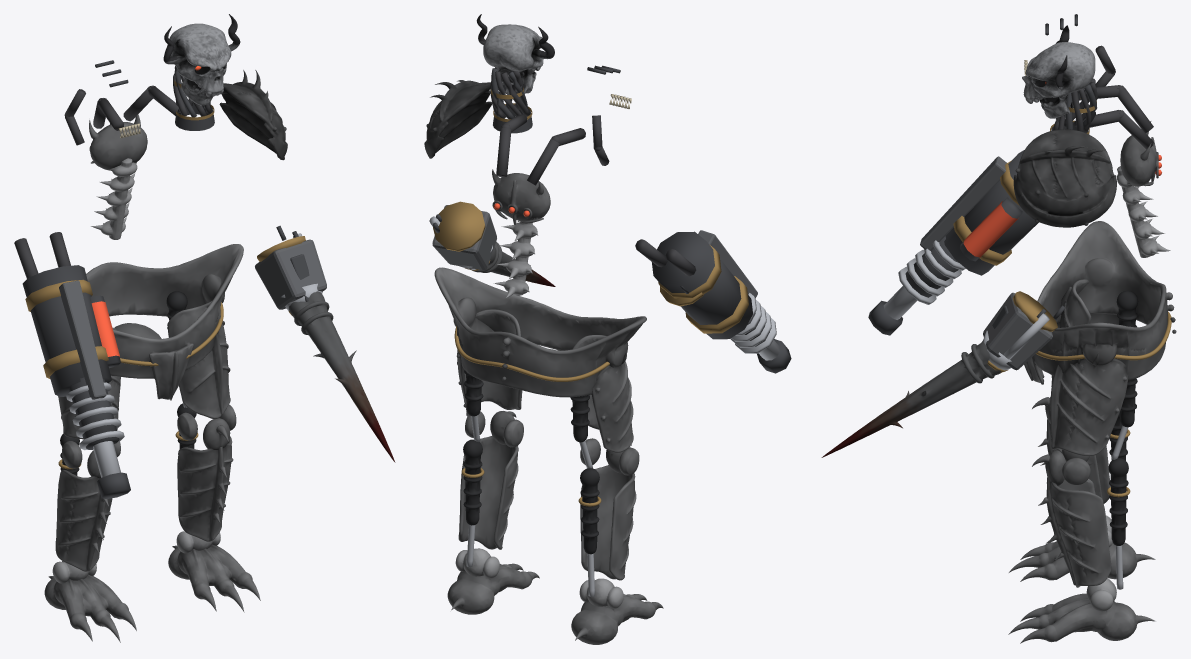
Rendered from twinhead-parts.glb.
The picture shows the model from 3 angles, left to right: view 1: azimuth 30°, elevation 25°; view 2: azimuth 150°, elevation 25°; view 3: azimuth 270°, elevation 25°; orthographic projection. The views are drawn at different scales.
Visible parts, largest first — view 1: forearm.r|cannon, pelvis|girdle, shin.l|greave, shin.r|greave, skull|demonskull, hand.l|spike, thigh.l|carapace, foot.l|hoof, foot.r|hoof, clavicle.l|pauldron, forearm.l|sleeve, spine2|pod (+7 smaller); view 2: pelvis|girdle, forearm.r|cannon, shin.l|greave, shin.r|greave, thigh.r|carapace, skull|demonskull, clavicle.l|pauldron, foot.l|hoof, foot.r|hoof, spine2|pod, thigh.l|carapace, forearm.l|elbowcollar (+14 smaller); view 3: pelvis|girdle, forearm.r|cannon, clavicle.l|pauldron, thigh.l|carapace, shin.l|greave, skull|demonskull, foot.l|hoof, hand.l|spike, forearm.l|sleeve, foot.r|hoof, chest|vertebrae, spine2|pod (+11 smaller).
Part boxes in pixels (x1,y1,x2,y2): forearm.r|cannon: [14, 232, 130, 499]; pelvis|girdle: [86, 244, 243, 400]; shin.l|greave: [177, 436, 233, 541]; shin.r|greave: [55, 470, 112, 571]; skull|demonskull: [163, 14, 240, 106]; hand.l|spike: [288, 291, 395, 462]; thigh.l|carapace: [167, 300, 230, 419]; foot.l|hoof: [168, 544, 260, 612]; foot.r|hoof: [44, 574, 136, 642]; clavicle.l|pauldron: [219, 70, 287, 160]; forearm.l|sleeve: [255, 239, 326, 309]; spine2|pod: [89, 114, 147, 170]; pelvis|girdle: [434, 267, 646, 397]; forearm.r|cannon: [635, 230, 791, 373]; shin.l|greave: [458, 436, 518, 549]; shin.r|greave: [580, 465, 636, 580]; thigh.r|carapace: [572, 335, 633, 452]; skull|demonskull: [476, 14, 554, 98]; clavicle.l|pauldron: [424, 80, 492, 158]; foot.l|hoof: [447, 563, 539, 614]; foot.r|hoof: [571, 594, 663, 644]; spine2|pod: [492, 169, 550, 224]; thigh.l|carapace: [456, 309, 522, 416]; forearm.l|elbowcollar: [433, 201, 485, 251]; pelvis|girdle: [1024, 221, 1176, 384]; forearm.r|cannon: [868, 150, 1038, 335]; clavicle.l|pauldron: [1013, 129, 1116, 227]; thigh.l|carapace: [1050, 352, 1128, 455]; shin.l|greave: [1038, 477, 1111, 587]; skull|demonskull: [1022, 25, 1095, 121]; foot.l|hoof: [1008, 593, 1155, 643]; hand.l|spike: [821, 341, 1001, 457]; forearm.l|sleeve: [983, 292, 1052, 370]; foot.r|hoof: [1009, 541, 1155, 581]; chest|vertebrae: [1117, 166, 1170, 257]; spine2|pod: [1120, 121, 1158, 186].
Bounding box in the file's own units: 1.15 × 2.23 × 1.22.
